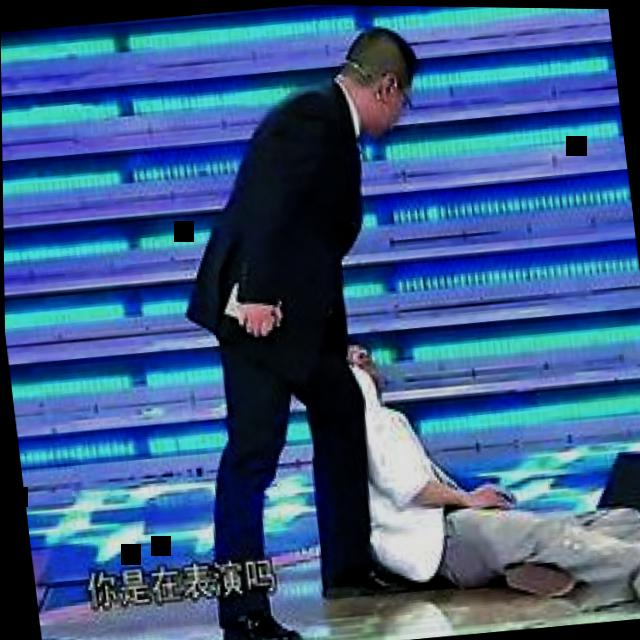Fall-Detected: (304, 274, 640, 640)
